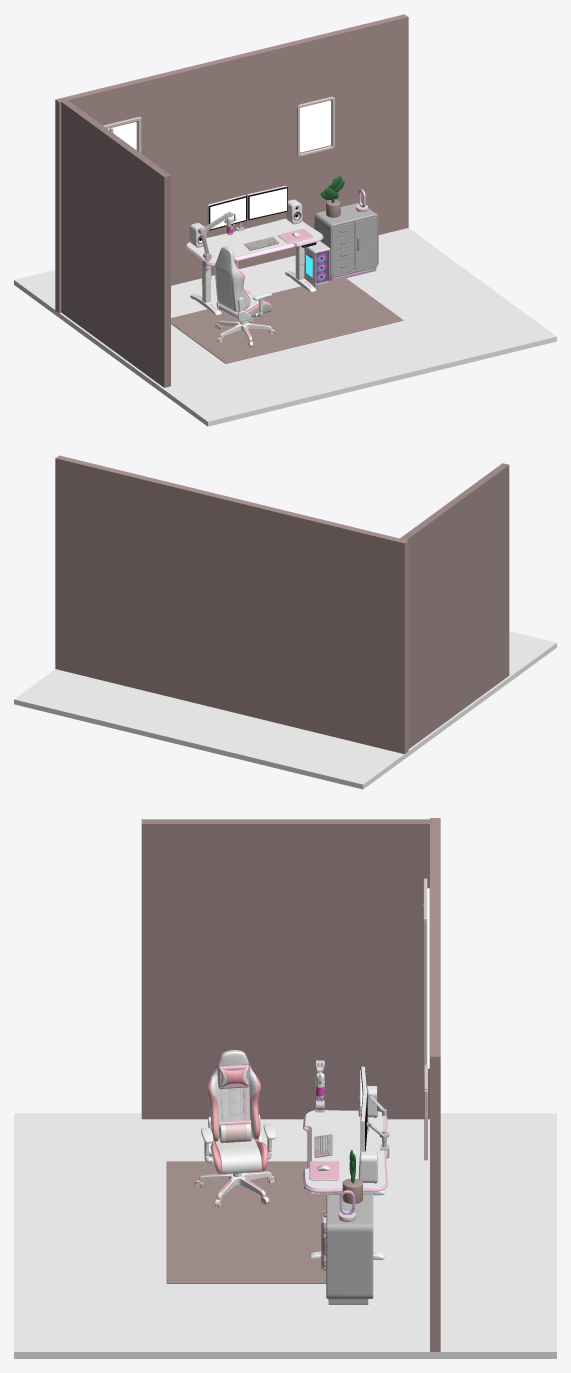
The picture shows the model from 3 angles, top to bottom: view 1: azimuth 30°, elevation 25°; view 2: azimuth 150°, elevation 25°; view 3: azimuth 270°, elevation 25°; orthographic projection. The views are drawn at different scales.
Visible parts, largest first — view 1: Architecture_Back_Wall, Architecture_Floor, Architecture_Left_Wall, Decor_Rug, GEO_Desk_Moving_Top, GEO_Chair_Swivel_Upper, GEO_Cabinet_Body, Wall_Art_Art, GEO_Door_Right_Front, 04-pc-tower_mesh_01, Screen_Right, GEO_Desk_Fixed_Base (+2 smaller); view 2: Architecture_Back_Wall, Architecture_Left_Wall, Architecture_Floor; view 3: Architecture_Floor, Architecture_Left_Wall, Decor_Rug, Architecture_Back_Wall, GEO_Chair_Swivel_Upper, GEO_Cabinet_Body, GEO_Desk_Moving_Top, GEO_Chair_Static_Base, Window_Frame_V.001.
Boxes of the visible parts, bbox=[...] form: Architecture_Back_Wall: bbox=[55, 14, 408, 312]; Architecture_Floor: bbox=[14, 228, 556, 426]; Architecture_Left_Wall: bbox=[58, 98, 170, 387]; Decor_Rug: bbox=[171, 277, 403, 363]; GEO_Desk_Moving_Top: bbox=[185, 218, 323, 274]; GEO_Chair_Swivel_Upper: bbox=[215, 246, 272, 321]; GEO_Cabinet_Body: bbox=[314, 202, 378, 280]; Wall_Art_Art: bbox=[300, 100, 330, 152]; GEO_Door_Right_Front: bbox=[355, 216, 377, 270]; 04-pc-tower_mesh_01: bbox=[304, 241, 330, 286]; Screen_Right: bbox=[249, 188, 286, 218]; GEO_Desk_Fixed_Base: bbox=[190, 263, 316, 315]; Architecture_Back_Wall: bbox=[55, 455, 408, 753]; Architecture_Left_Wall: bbox=[396, 463, 509, 748]; Architecture_Floor: bbox=[14, 631, 556, 789]; Architecture_Floor: bbox=[14, 1113, 556, 1358]; Architecture_Left_Wall: bbox=[141, 819, 440, 1119]; Decor_Rug: bbox=[166, 1161, 334, 1283]; Architecture_Back_Wall: bbox=[430, 818, 440, 1351]; GEO_Chair_Swivel_Upper: bbox=[201, 1050, 275, 1173]; GEO_Cabinet_Body: bbox=[326, 1194, 373, 1304]; GEO_Desk_Moving_Top: bbox=[303, 1110, 387, 1194]; GEO_Chair_Static_Base: bbox=[194, 1171, 275, 1206]; Window_Frame_V.001: bbox=[423, 921, 427, 1075].
Bounding box in the file's own units: 5.2 × 3.07 × 5.
Materials: 34 (12 with a texture image).
